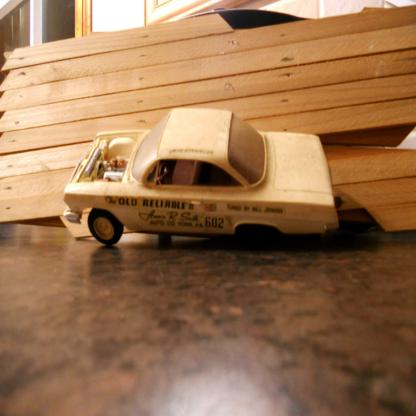Car: (64, 109, 340, 244)
